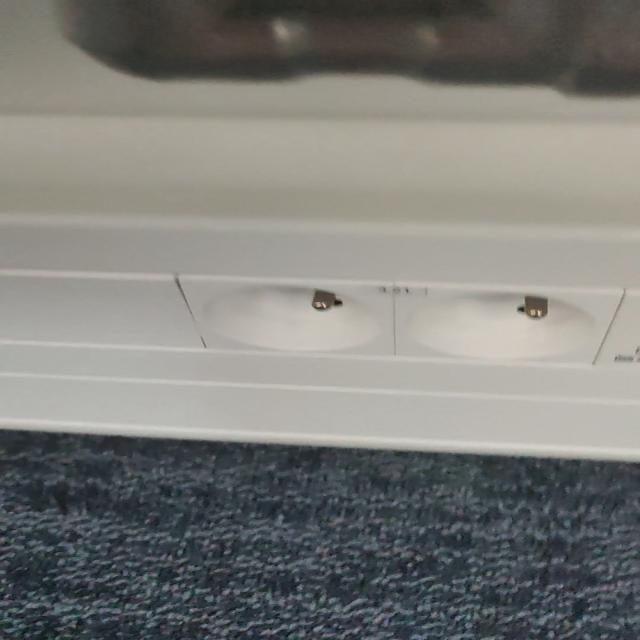house plug: (396, 279, 622, 365), (176, 280, 400, 356)
